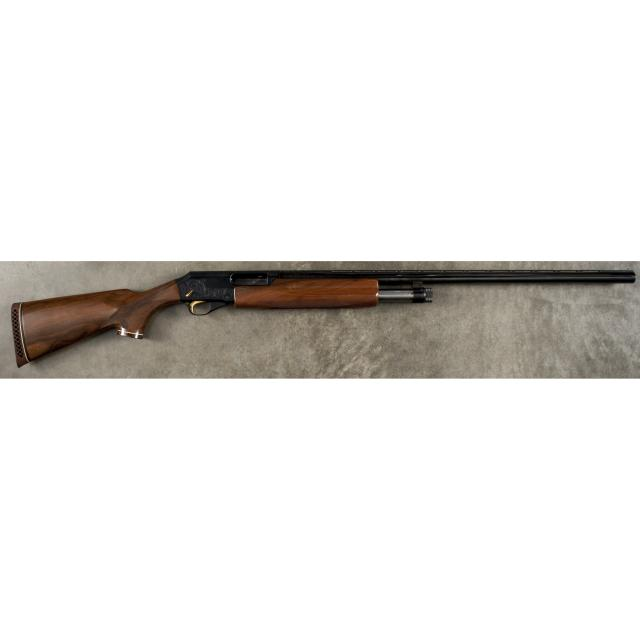ShotGun: (12, 270, 636, 364)
